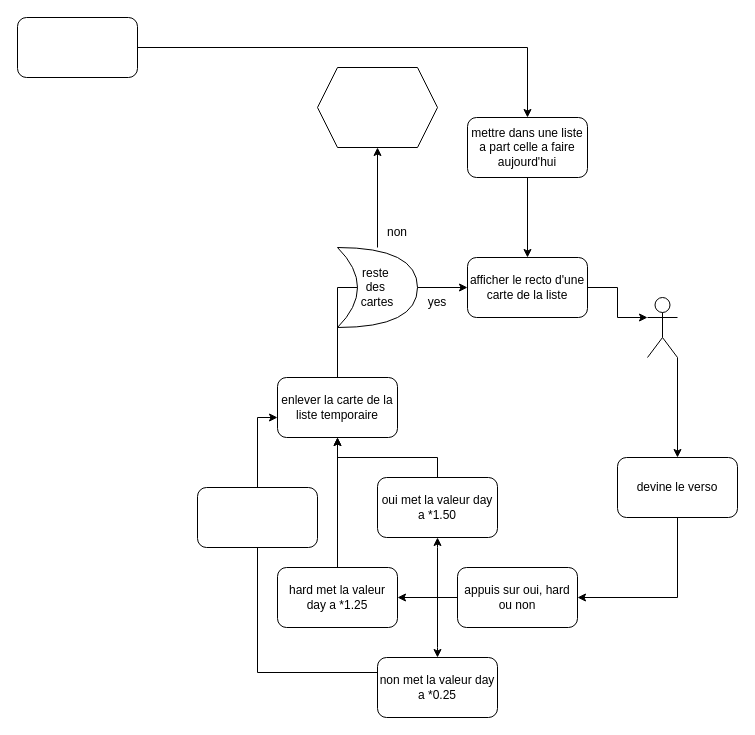
This 755x735 diagram has some shape labels left out. The shapes that lost their labels are listed below. From the top down, each one's centre as x and y in pixels, then its label:
At point (77, 47): "lister les cartes a faires".
At point (377, 107): "end".
At point (662, 327): "user".
At point (257, 517): "si day<0 alors on met day a global_day+1".
